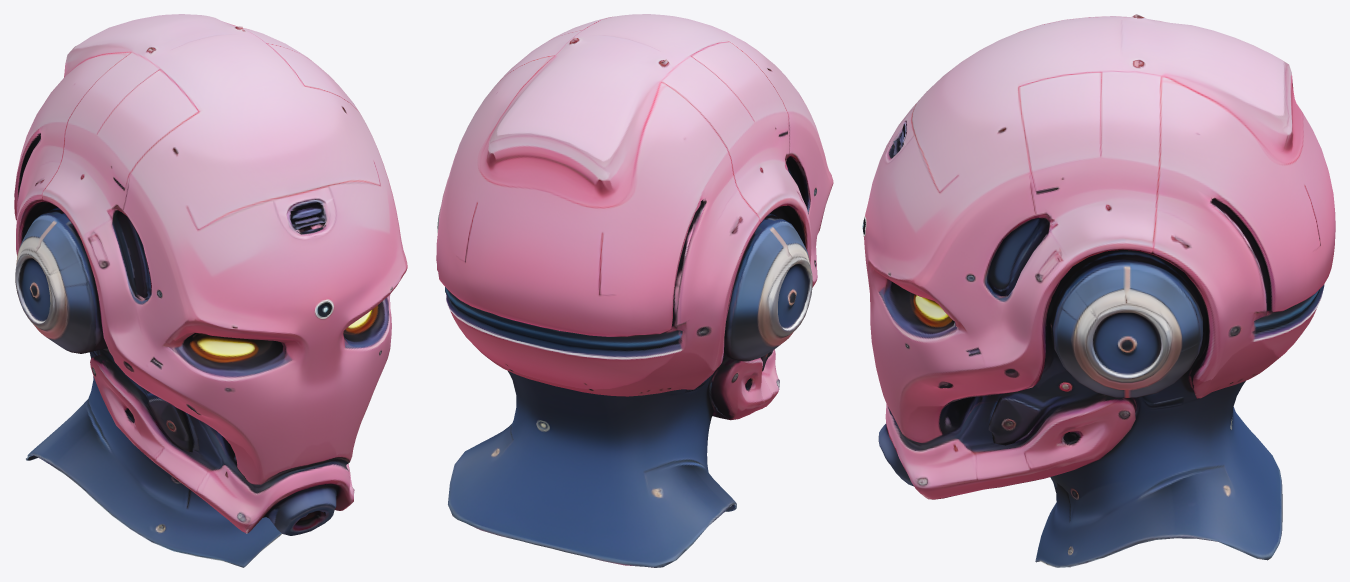
The model's file is base_basic_shaded.glb.
3 views of the same model, side by side, from view 1: azimuth 30°, elevation 25°; view 2: azimuth 150°, elevation 25°; view 3: azimuth 270°, elevation 25° (orthographic). The views are drawn at different scales.
Visible parts, largest first — view 1: model; view 2: model; view 3: model.
Boxes of the visible parts, x1=… form: model: x1=14, y1=14, x2=407, y2=567; model: x1=436, y1=14, x2=833, y2=567; model: x1=862, y1=14, x2=1335, y2=567.
Bounding box in the file's own units: 1.34 × 1.9 × 1.54.
1 material, 1 textured.
